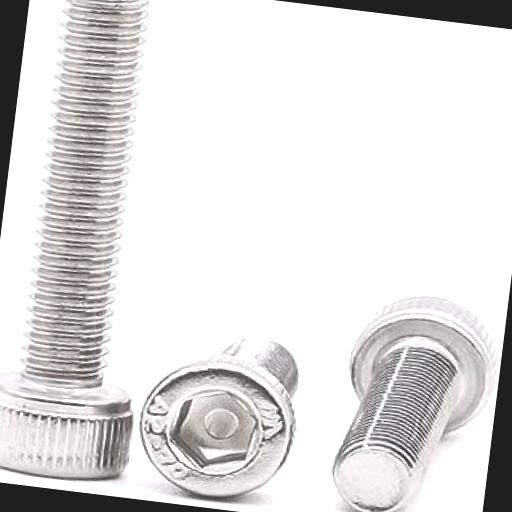Hex-Allen: (126, 348, 304, 510)
